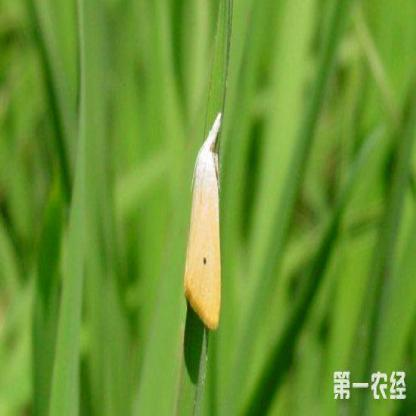stem-borer: (183, 109, 228, 335)
